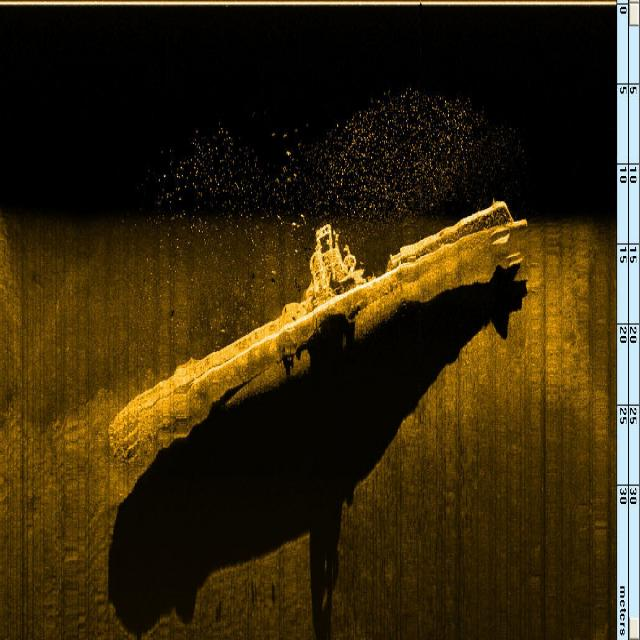ship: (108, 198, 530, 455)
